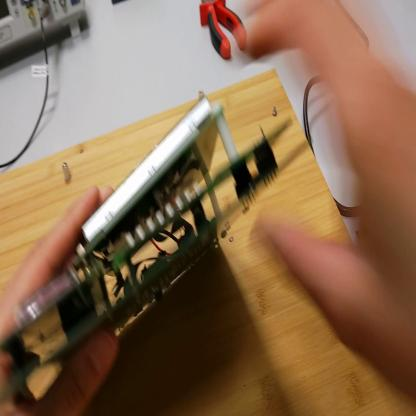hand: (242, 3, 416, 385), (2, 181, 126, 404)
low voltage board: (2, 105, 302, 416)
oscilloscope: (1, 2, 89, 53)
pliers: (199, 2, 248, 63)
working area: (1, 72, 416, 416)
